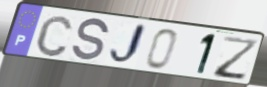0: (143, 27, 181, 72)
1: (194, 32, 219, 78)
C: (33, 14, 74, 58)
J: (107, 22, 149, 67)
S: (70, 17, 111, 64)
Z: (212, 35, 261, 82)
